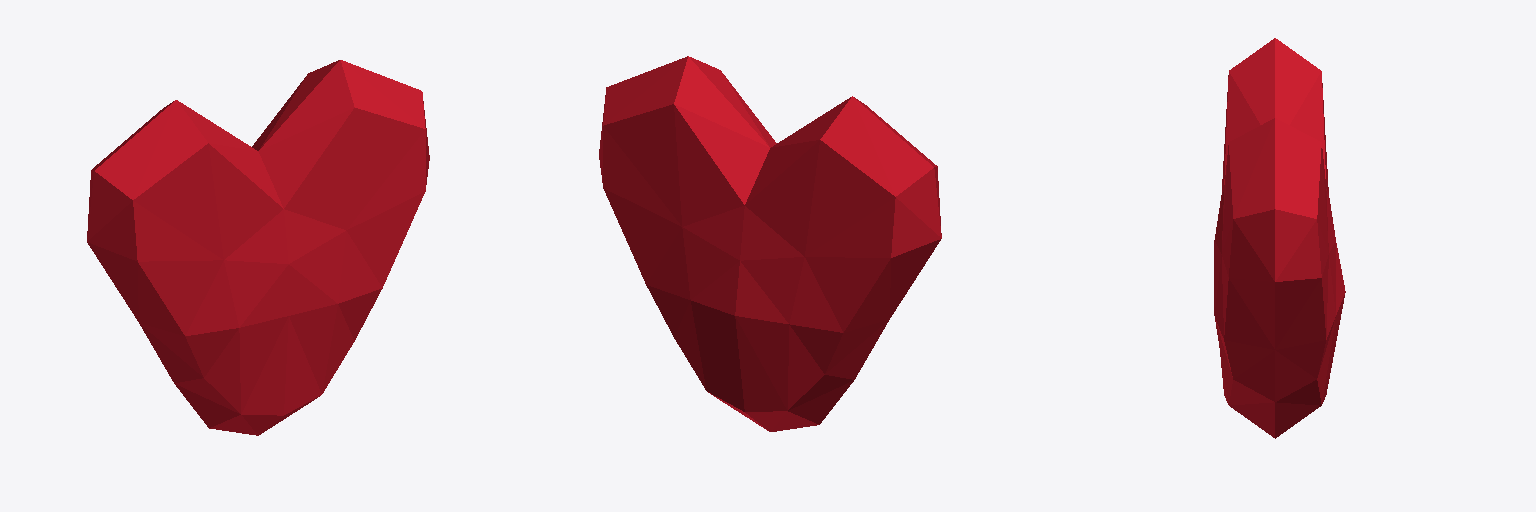
3 views of the same model, side by side, from view 1: azimuth 30°, elevation 25°; view 2: azimuth 150°, elevation 25°; view 3: azimuth 270°, elevation 25° (orthographic).
Parts seen in each view (by area): view 1: Cube; view 2: Cube; view 3: Cube.
Boxes of the visible parts, <box> form: Cube: <box>87,60,429,435</box>; Cube: <box>599,56,941,431</box>; Cube: <box>1214,38,1345,438</box>.
Bounding box in the file's own units: 2.12 × 2.1 × 0.7026.
Materials: 1 (1 with a texture image).